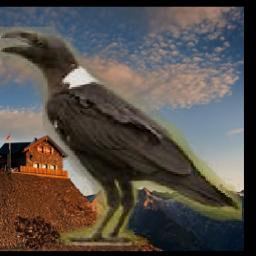Crow: (0, 28, 243, 246)
